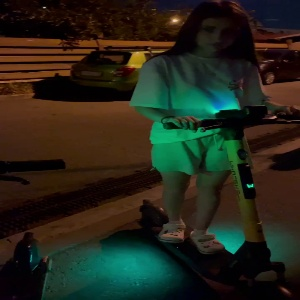human on a scooter: (125, 1, 300, 299)
